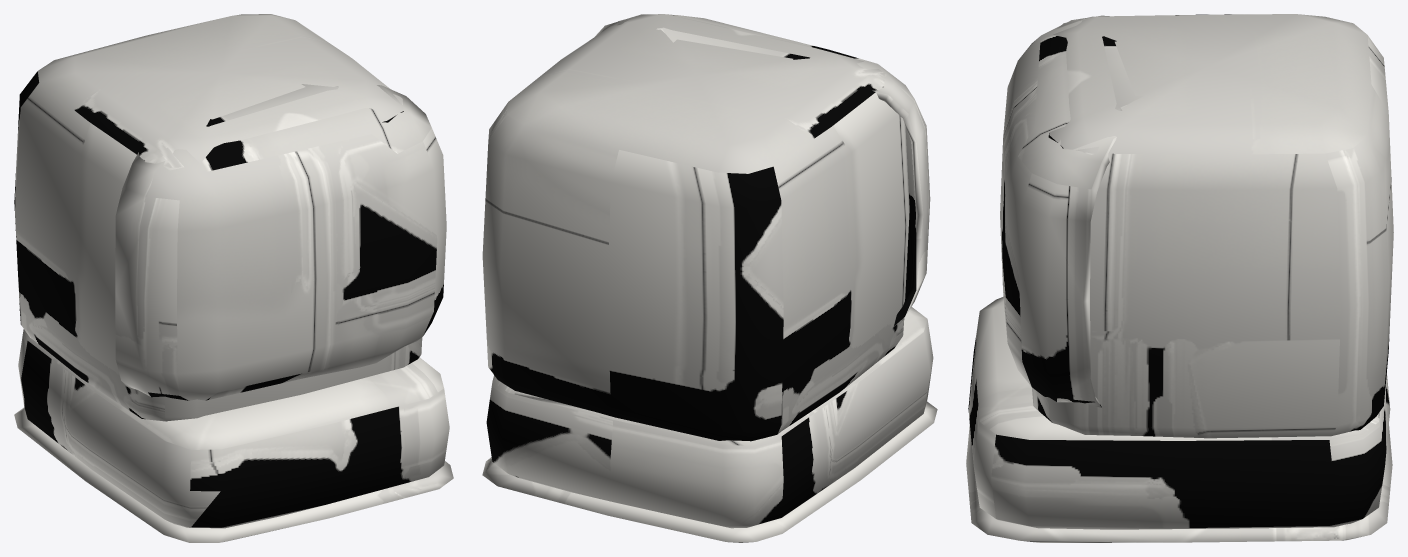
File: Centinela_GrebaDer.fbx
The picture shows the model from 3 angles, left to right: view 1: azimuth 30°, elevation 25°; view 2: azimuth 150°, elevation 25°; view 3: azimuth 270°, elevation 25°; orthographic projection. The views are drawn at different scales.
Visible parts, largest first — view 1: Centinela_GrebaDer; view 2: Centinela_GrebaDer; view 3: Centinela_GrebaDer.
Part boxes in pixels (x1,y1,x2,y2): Centinela_GrebaDer: [14, 14, 453, 542]; Centinela_GrebaDer: [482, 14, 937, 542]; Centinela_GrebaDer: [966, 14, 1393, 542].
Bounding box in the file's own units: 1.25 × 1.37 × 1.3.
